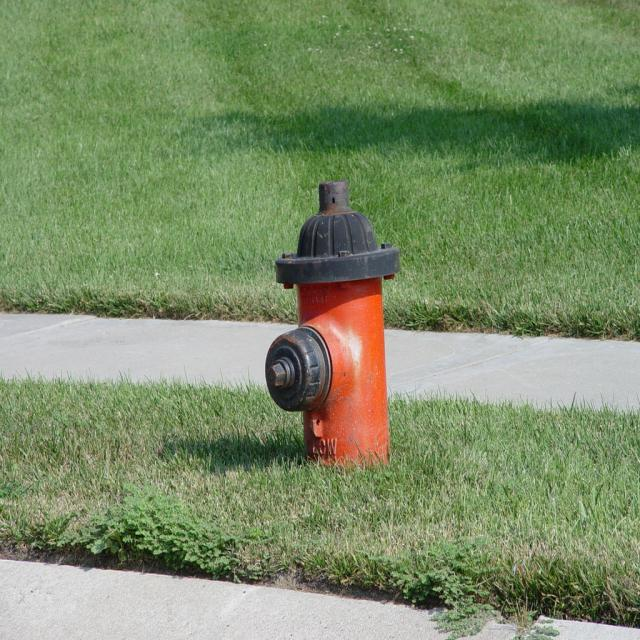fire_hydrant: (264, 182, 400, 470)
